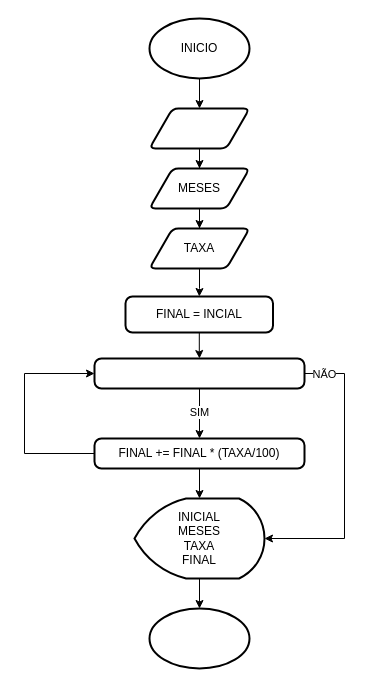
Some shapes in this 370 by 686 pixel diagram are drawn without their labels. The box of each missing label's shape, as (x1, y1, x2, y2) in pixels:
CONTADOR=0; < MESES, +1: (93, 357, 305, 389)
FIM: (148, 607, 250, 669)
INICIAL: (148, 107, 250, 149)
